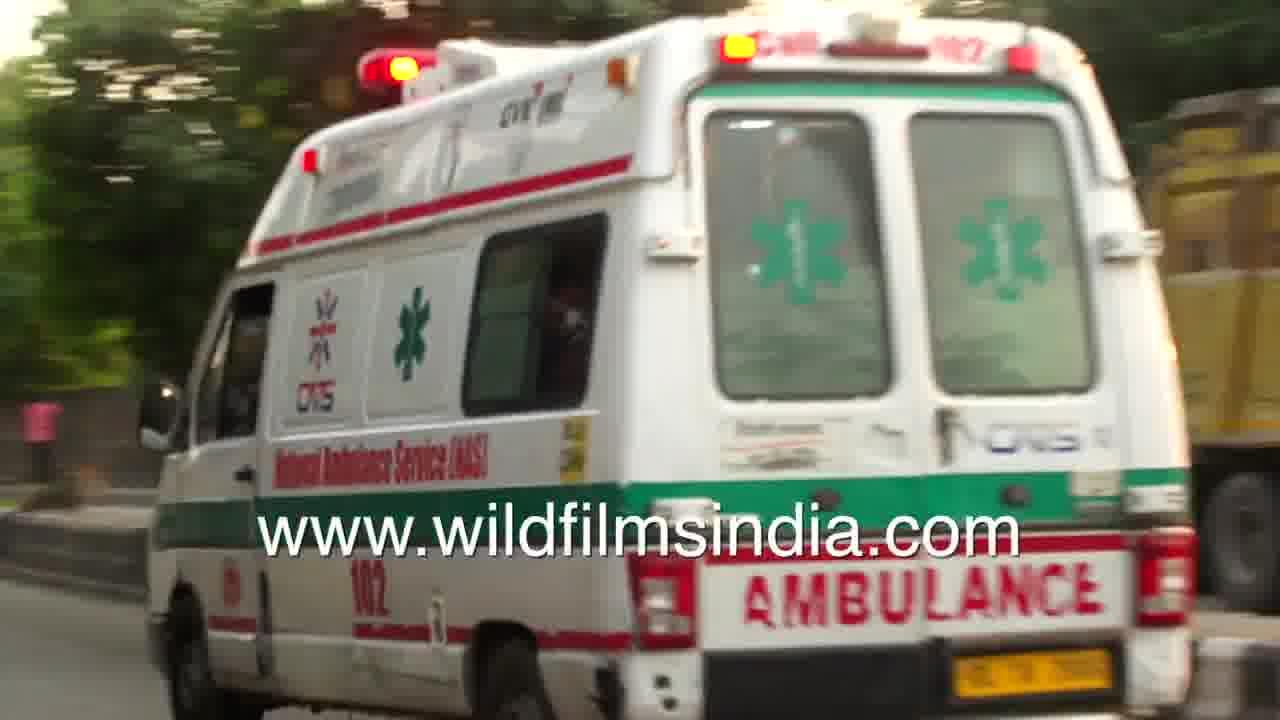AMBULANCE: (135, 34, 1252, 693)
